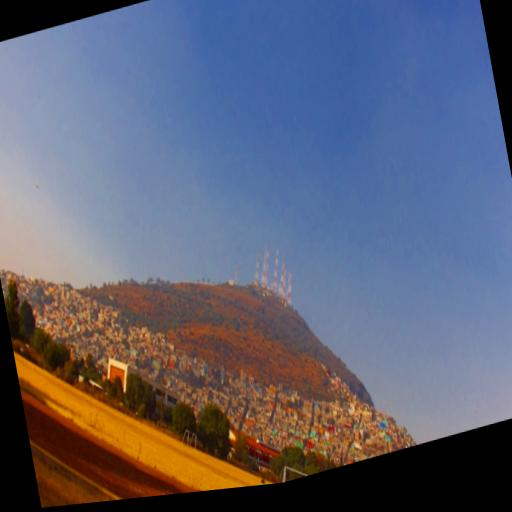drones: (32, 180, 40, 190)
